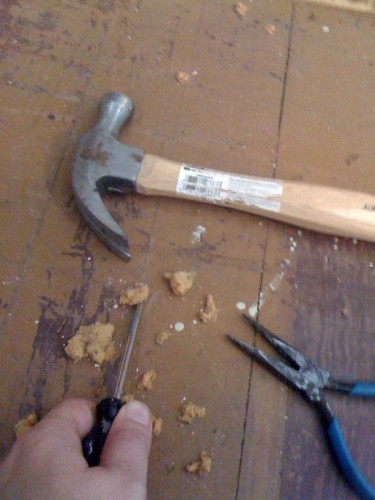hammer: (69, 90, 374, 266)
